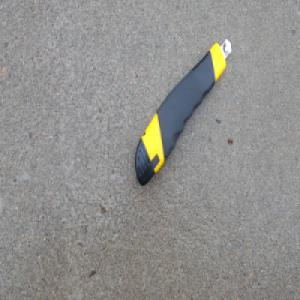Cutter: (134, 37, 231, 187)
